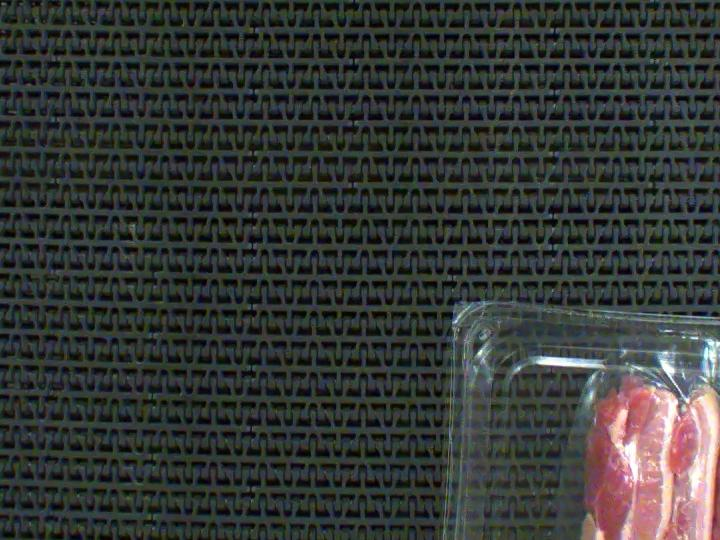unsealed: (581, 355, 720, 498)
